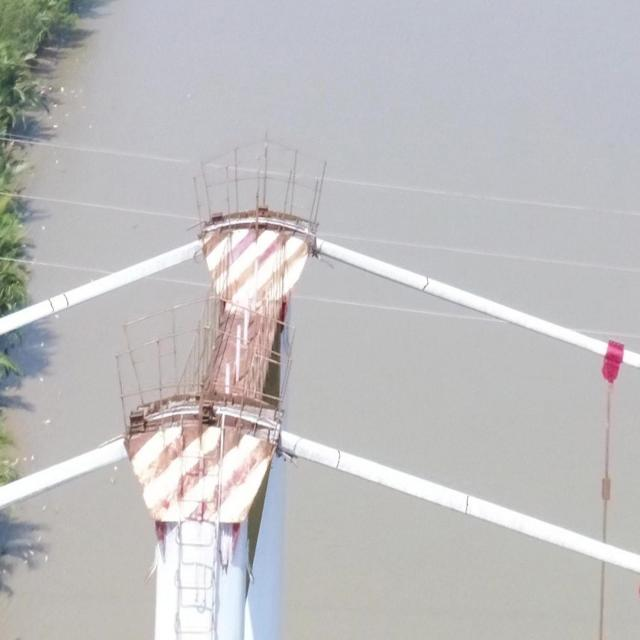crack: (334, 449, 342, 469), (62, 292, 69, 308), (422, 277, 429, 292), (464, 495, 469, 515), (48, 299, 55, 313)
